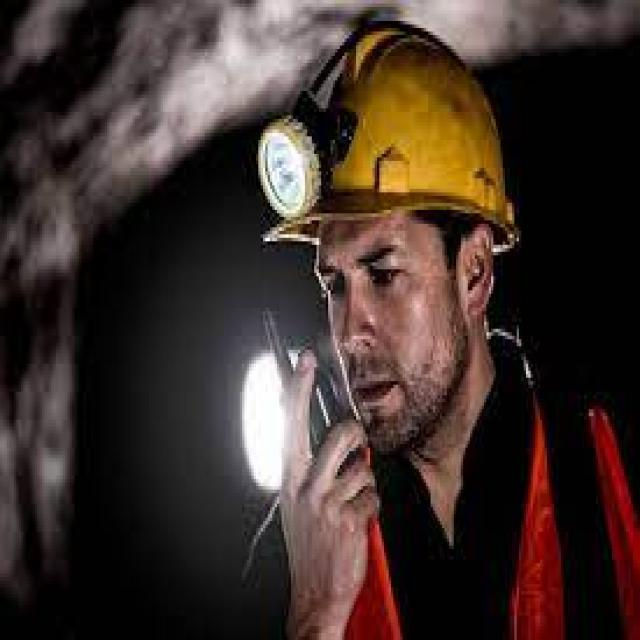No_Goggles: (314, 236, 432, 310)
